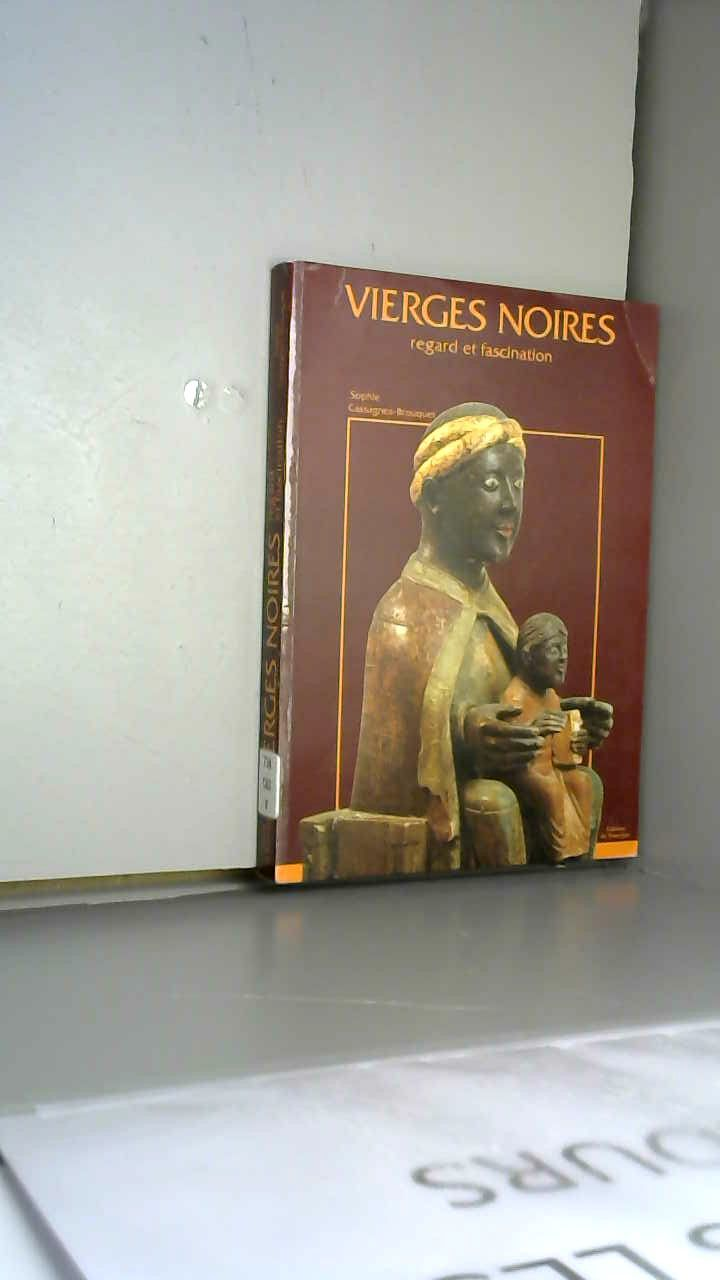book: (230, 230, 718, 900)
